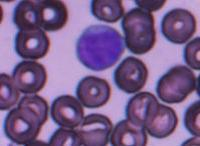L: (75, 23, 125, 71)
